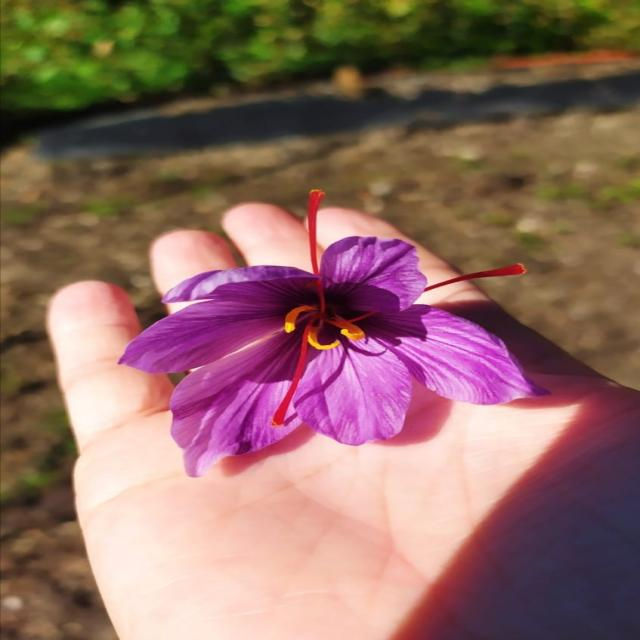saffron open: (121, 236, 545, 475)
